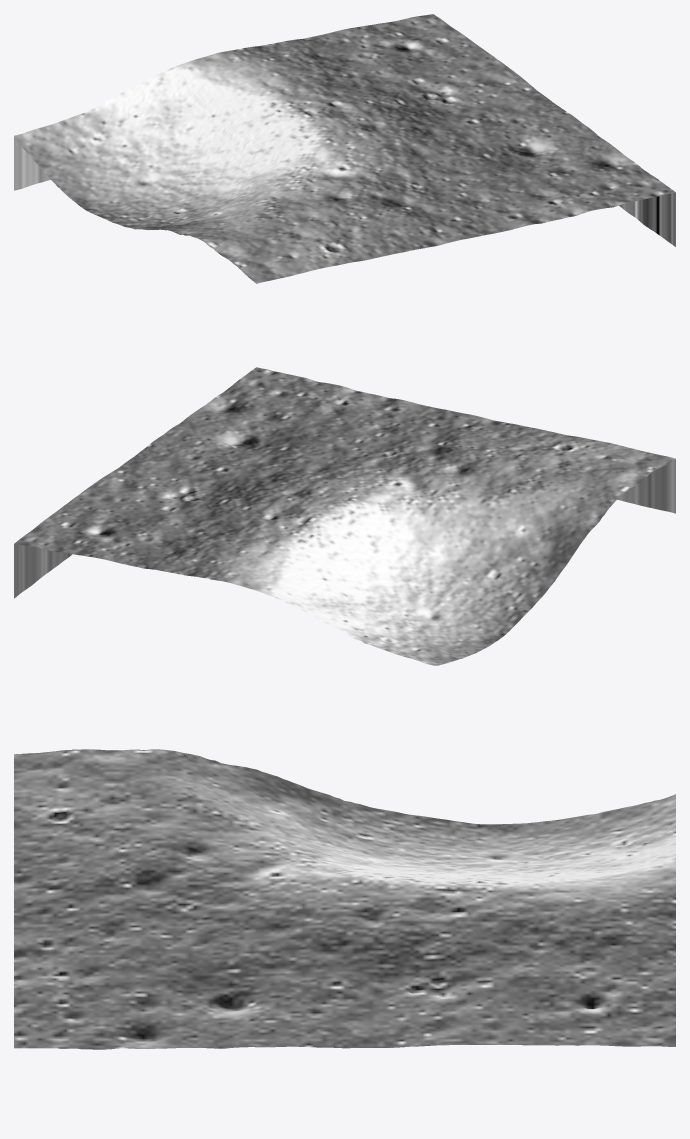
The picture shows the model from 3 angles, top to bottom: view 1: azimuth 30°, elevation 25°; view 2: azimuth 150°, elevation 25°; view 3: azimuth 270°, elevation 25°; orthographic projection. The views are drawn at different scales.
Bounding box in the file's own units: 638 × 161 × 639.
Materials: 1 (1 with a texture image).
